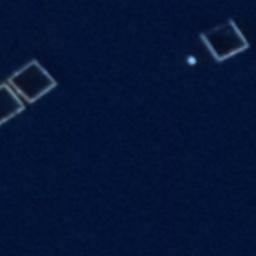square_solid: (3, 55, 58, 107), (198, 17, 251, 65), (1, 76, 27, 129)
